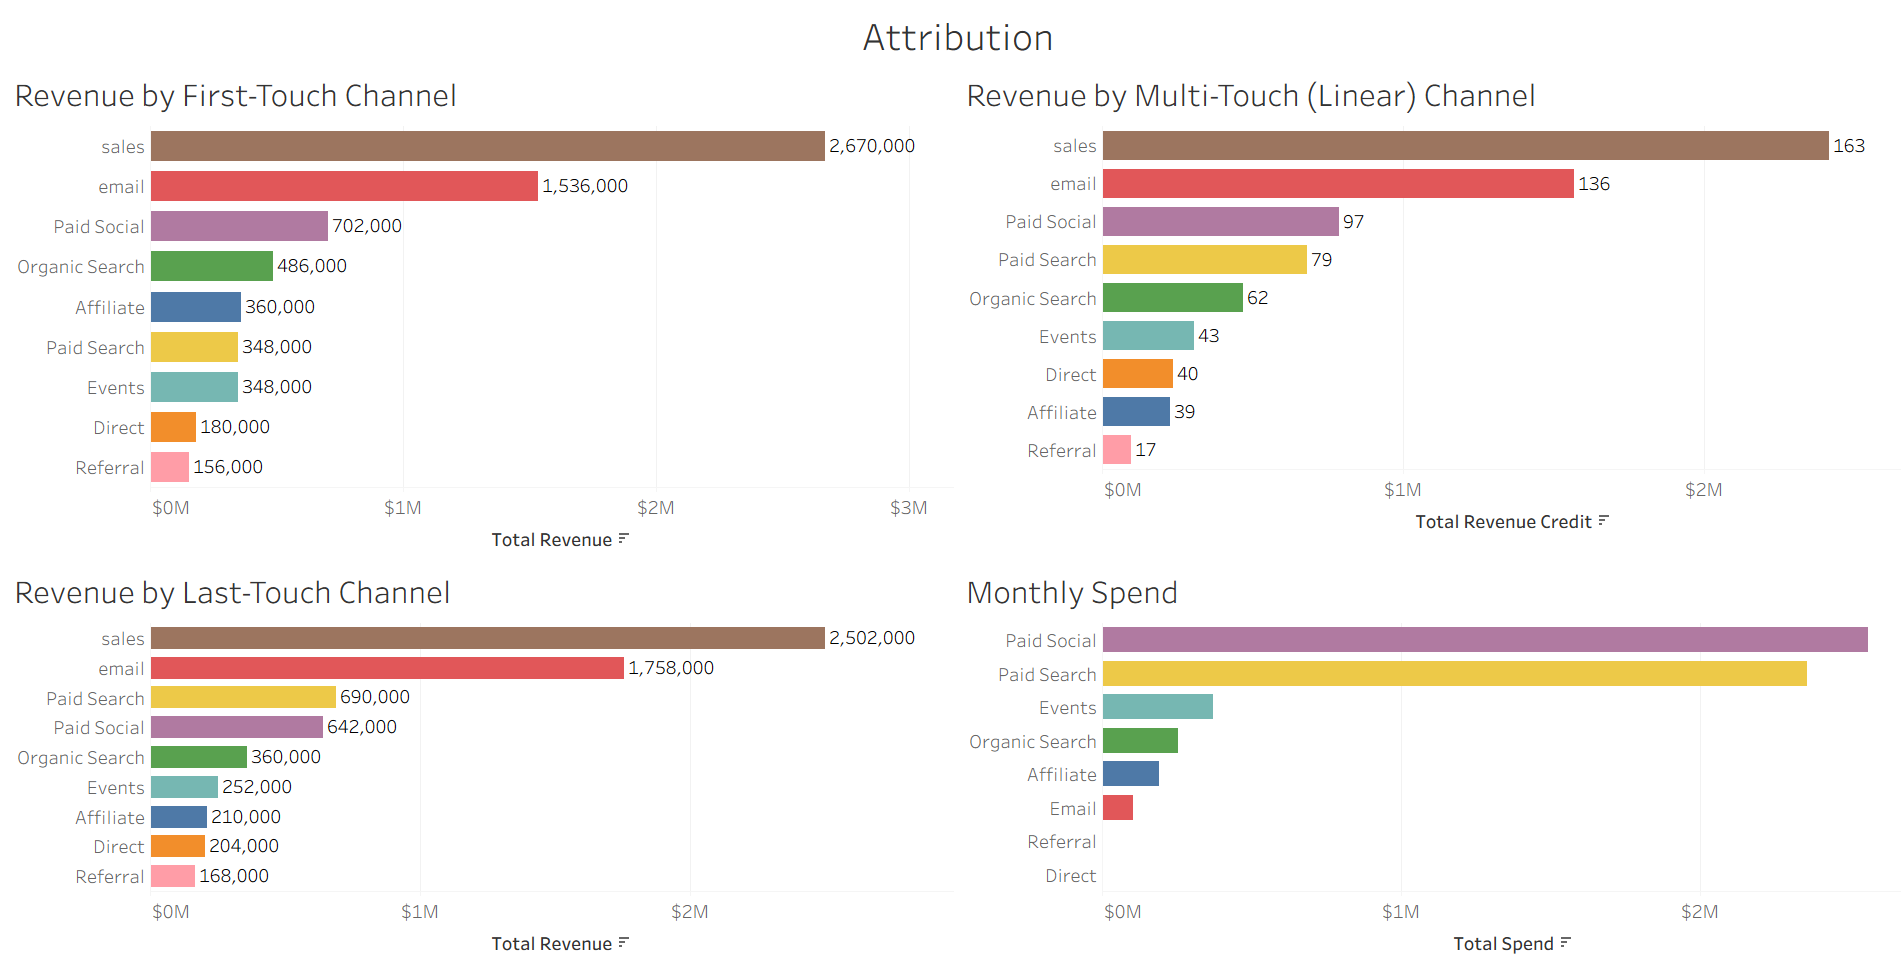

The page's visual inventory and layout, read from the dashboard file:
{"tool":"tableau","page":{"name":"Attribution","canvas":[1000,1000],"units":"permille","ordinal":1},"visuals":[{"type":"worksheet","title":"fta(month)","mark":"Automatic","rows":["channel"],"cols":["total_revenue"],"box":[5.1,10.6,494.9,539.6]},{"type":"worksheet","title":"mta(month)","mark":"Automatic","rows":["channel"],"cols":["total_revenue_credit"],"box":[500,10.6,494.9,539.6]},{"type":"worksheet","title":"lta(month)","mark":"Automatic","rows":["channel"],"cols":["total_revenue"],"box":[5.1,550.1,494.9,439.3]},{"type":"worksheet","title":"spend(month)","mark":"Bar","rows":["channel"],"cols":["total_spend"],"box":[500,550.1,494.9,439.3]}]}

Visuals, with their boxes on the dashboard's canvas, which has no fixed pixel size, in thousandths of its width and height (x1, y1, x2, y2). These are canvas units, not pixel positions in the 1901x970 screenshot, which may show the page scaled, cropped or inside an application window:
"fta(month)" worksheet: {"left": 5, "top": 11, "right": 500, "bottom": 550}
"mta(month)" worksheet: {"left": 500, "top": 11, "right": 995, "bottom": 550}
"lta(month)" worksheet: {"left": 5, "top": 550, "right": 500, "bottom": 989}
"spend(month)" worksheet (Bar marks): {"left": 500, "top": 550, "right": 995, "bottom": 989}
